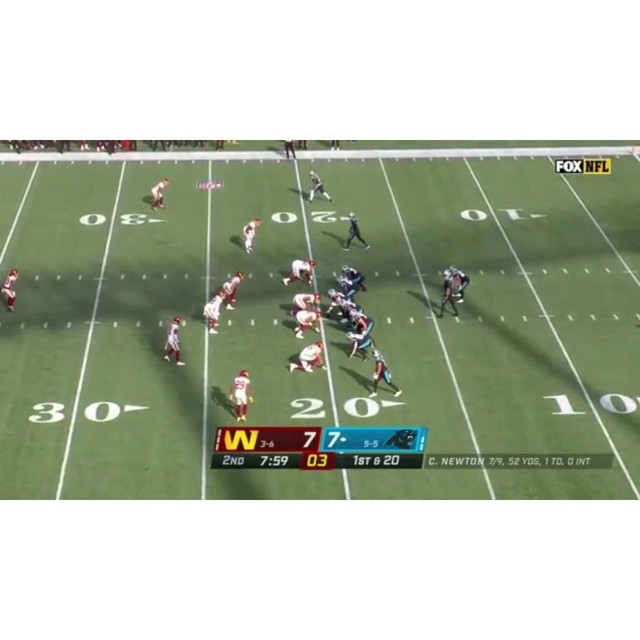american-football-player: (368, 350, 401, 397), (287, 342, 327, 373), (229, 369, 252, 422), (203, 288, 229, 334), (162, 315, 185, 366), (438, 270, 461, 320), (342, 213, 370, 252), (282, 259, 317, 288), (445, 265, 470, 302), (285, 293, 322, 318), (222, 270, 245, 310), (292, 310, 322, 340), (0, 268, 20, 313), (306, 170, 331, 202), (341, 263, 367, 291), (148, 177, 169, 211), (242, 217, 261, 254)
